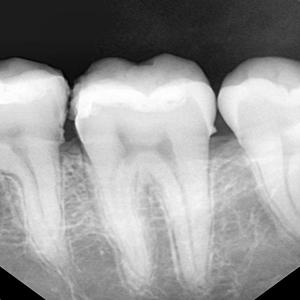tooth: (70, 52, 220, 284), (0, 59, 68, 298), (217, 56, 299, 235)
